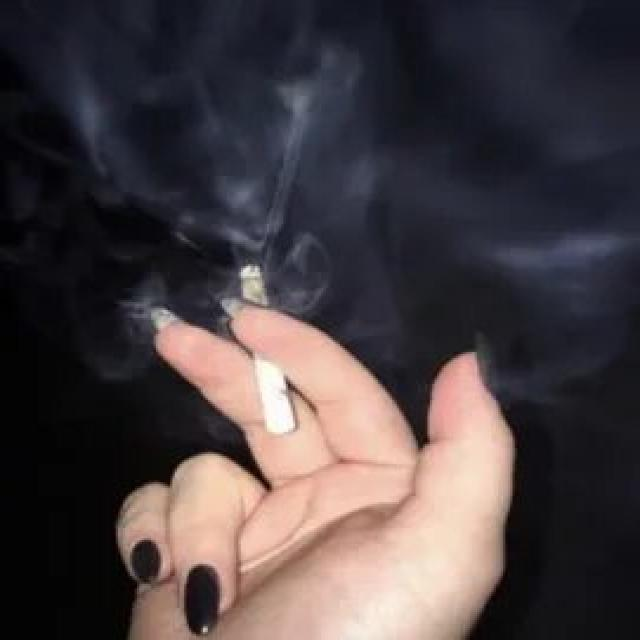smoke: (227, 256, 304, 446)
